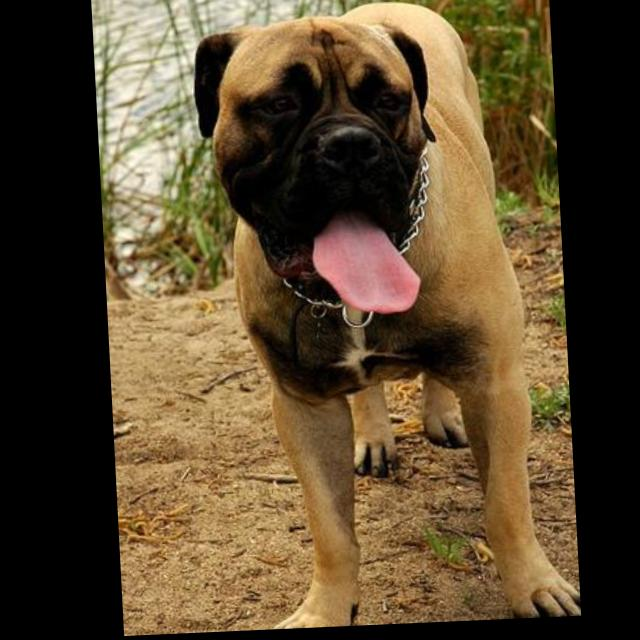bullmastiff: (191, 1, 576, 634)
